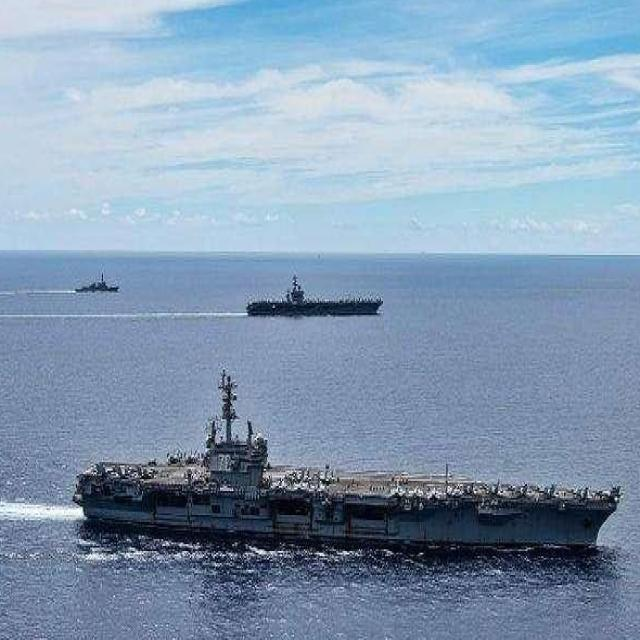navalvessels: (77, 365, 627, 576), (235, 278, 386, 336), (72, 272, 126, 301)
